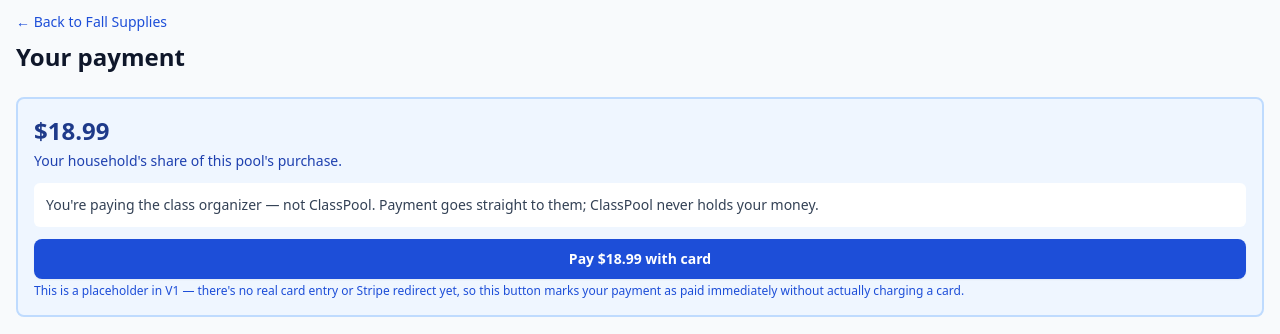
Scenario: PoolPaymentPage › clicking pay calls the pay endpoint with method CARD and updates to the paid state
The width and height of the screenshot is (1280, 334).
Click the button "Pay $18.99 with card". click: (640, 259)
box: [34,239,1246,279]
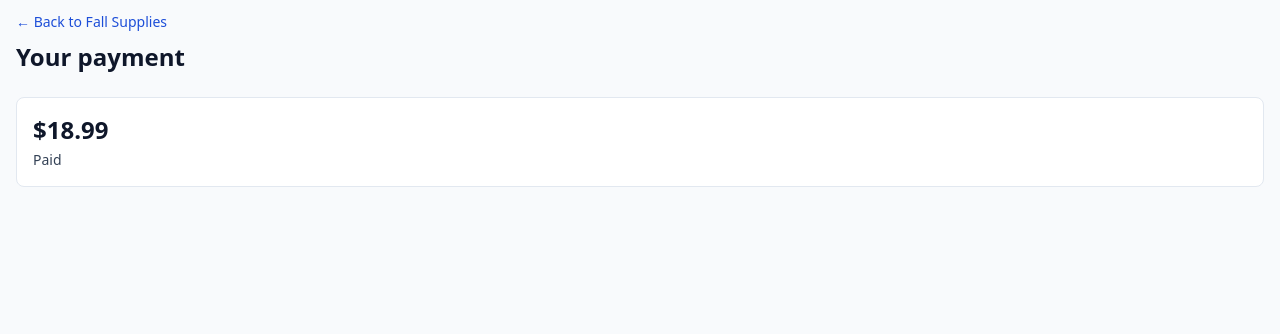
Expected: the text "Paid" is shown, [33,150,62,169]
Expected: the button "Pay $18.99 with card" is gone
